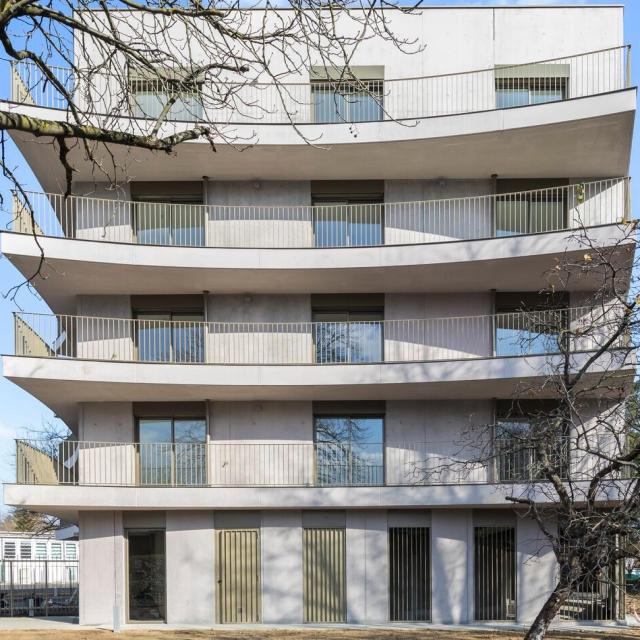door: (216, 528, 261, 627), (305, 526, 347, 625), (474, 524, 515, 623), (127, 527, 166, 626), (390, 527, 430, 621)
railing: (10, 43, 629, 122), (12, 174, 628, 250), (14, 298, 629, 368), (14, 431, 629, 487)
window: (496, 409, 565, 436), (135, 419, 206, 444), (313, 418, 383, 443), (314, 308, 382, 321), (135, 310, 203, 323)
